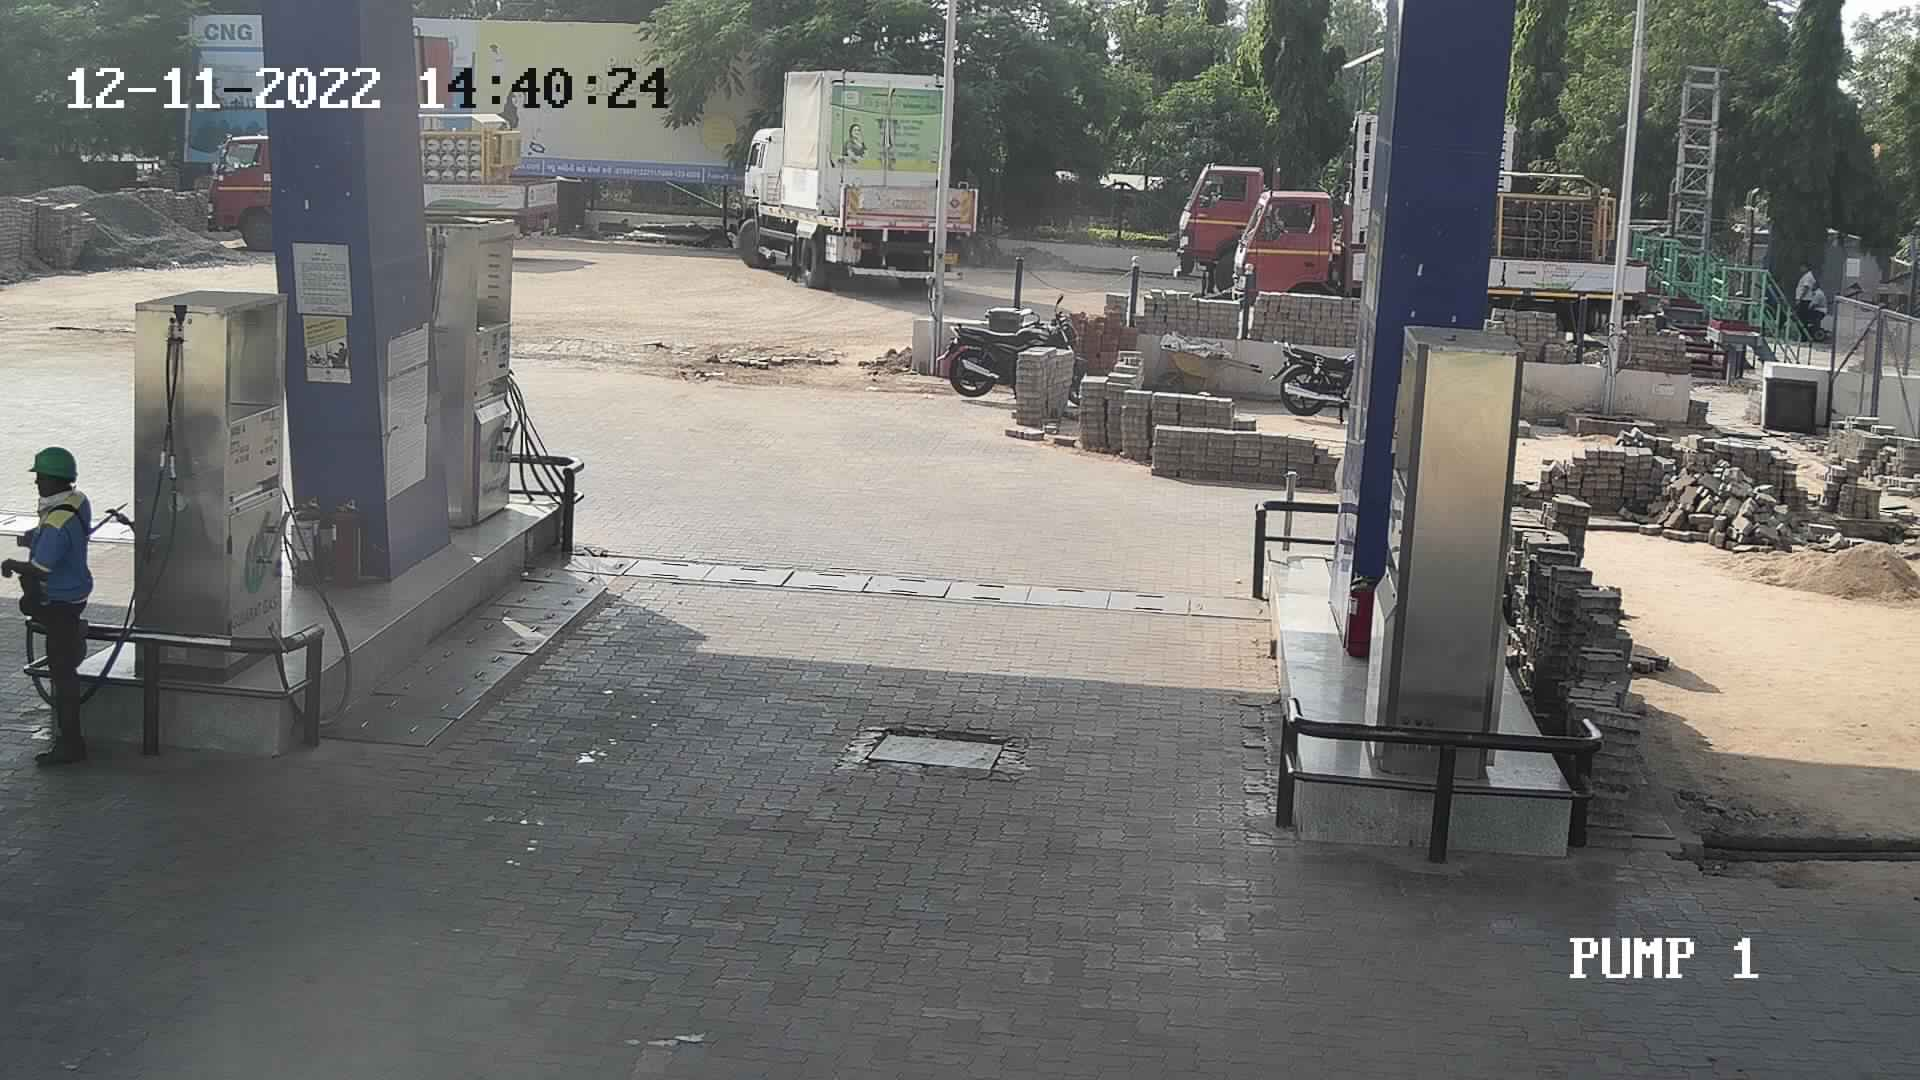Bike: (928, 284, 1113, 429), (1262, 320, 1364, 427)
HMV: (732, 59, 975, 295), (1156, 104, 1379, 301), (1217, 175, 1379, 340), (406, 100, 571, 247)
Others: (8, 440, 98, 771)
